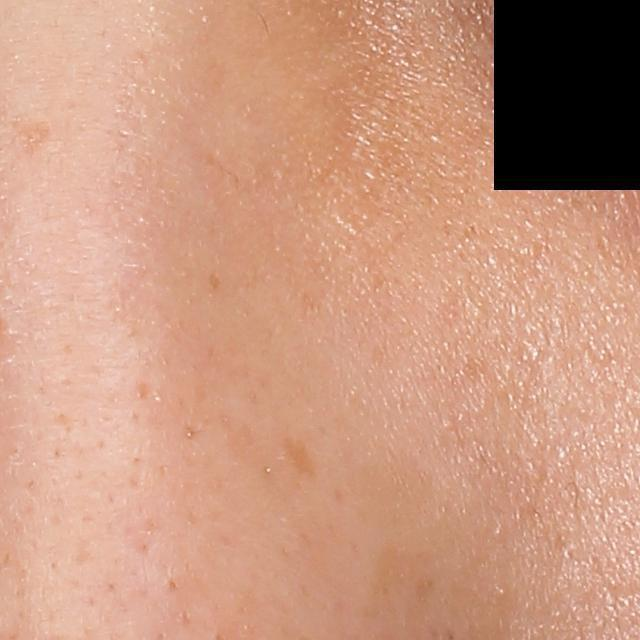melasma: (280, 434, 324, 486), (11, 116, 57, 164)
